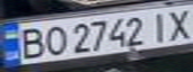2: (124, 12, 151, 47), (69, 20, 93, 54)
4: (106, 15, 130, 49)
7: (87, 17, 109, 52)
B: (12, 25, 51, 61)
I: (145, 9, 175, 43)
O: (39, 24, 69, 56)
X: (160, 6, 193, 42)
